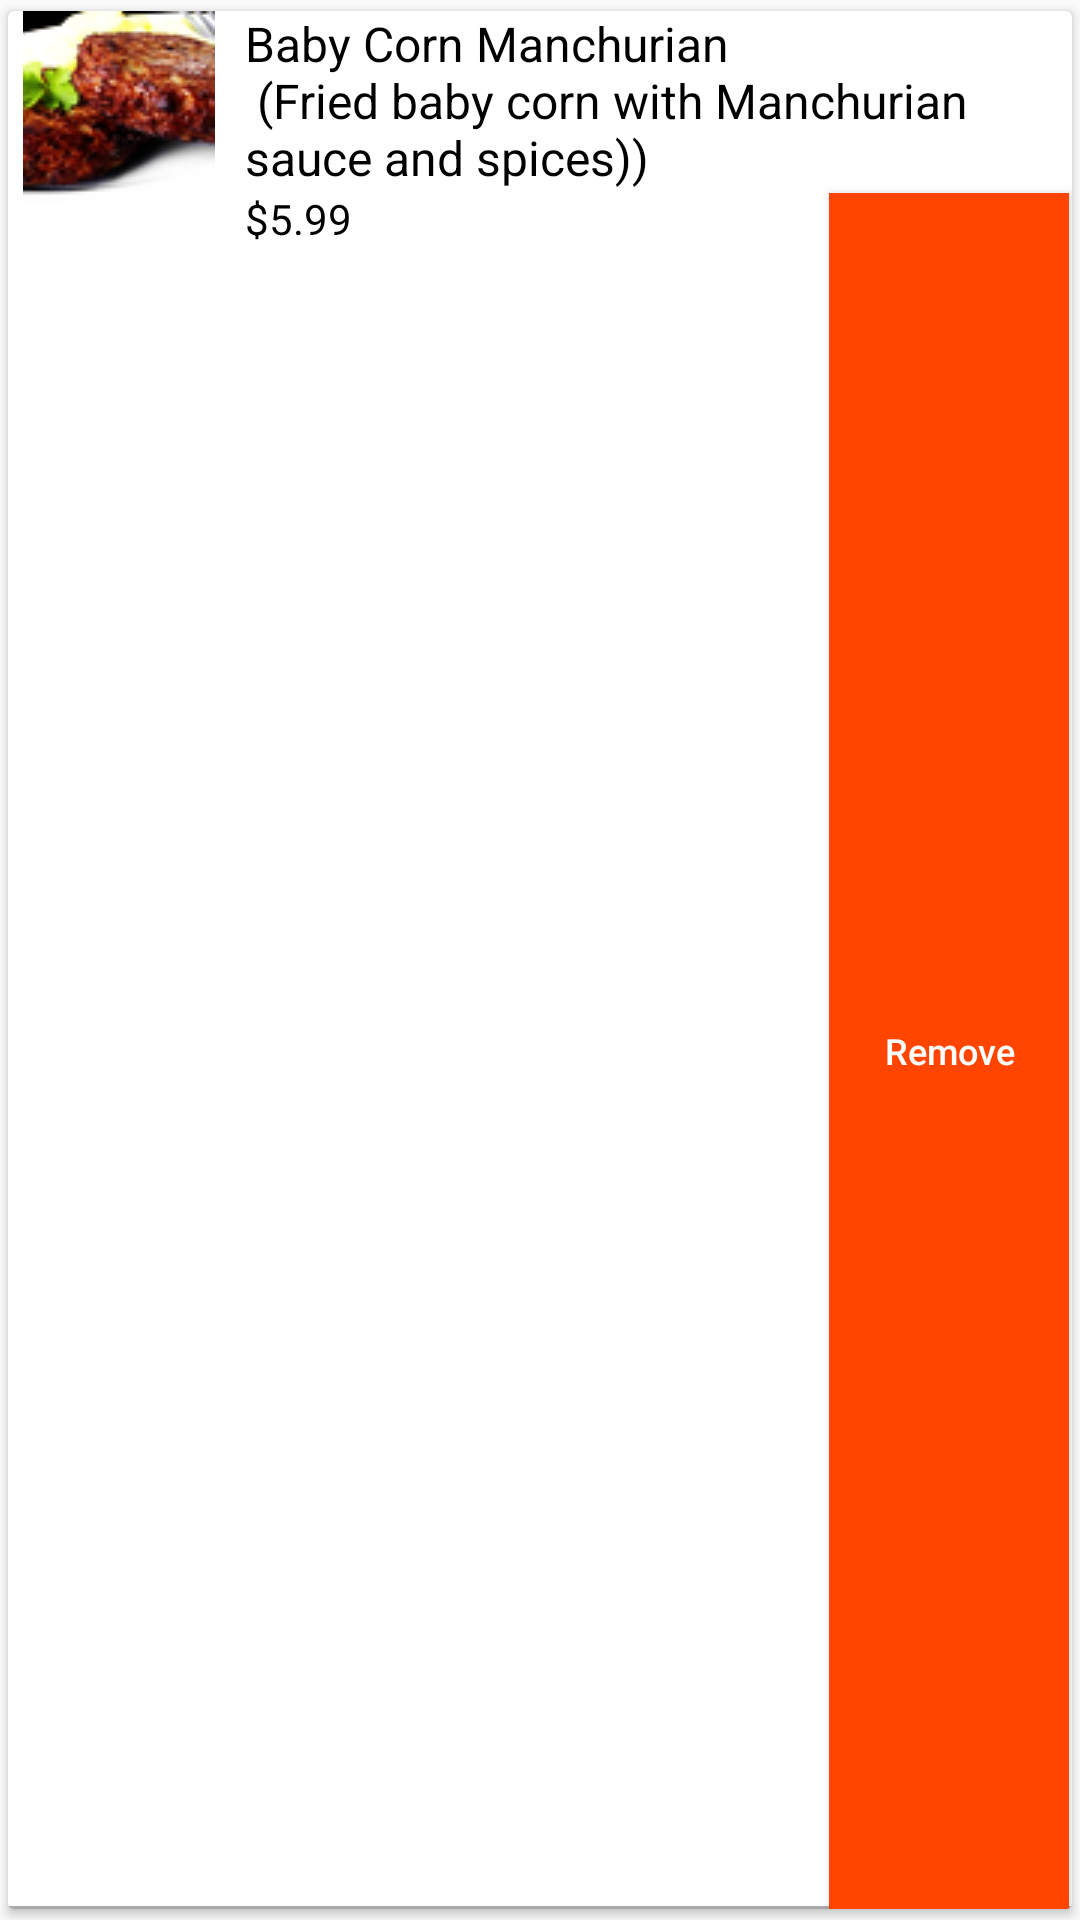

Where icons sit on this 1080 × 1920 app screen, as (x1, y1, x2, y2):
beefcut: (23, 11, 215, 195)
